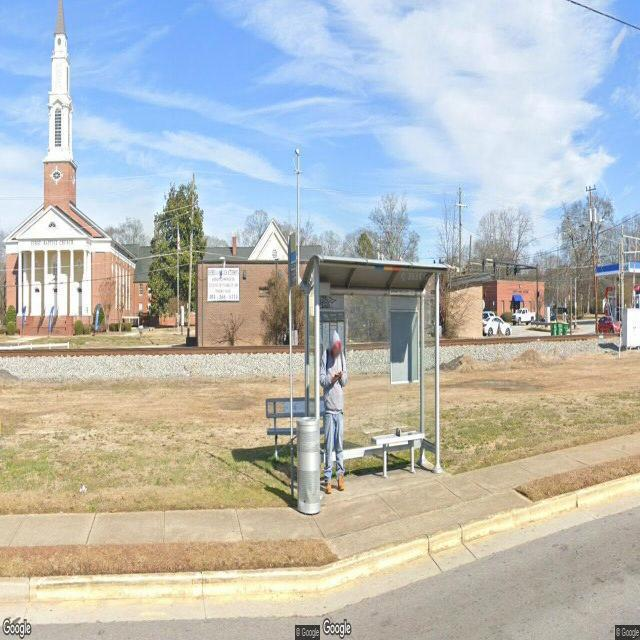seating: (266, 394, 330, 462), (371, 428, 428, 478)
shelter: (298, 258, 456, 498)
trash_can: (296, 415, 322, 516)
